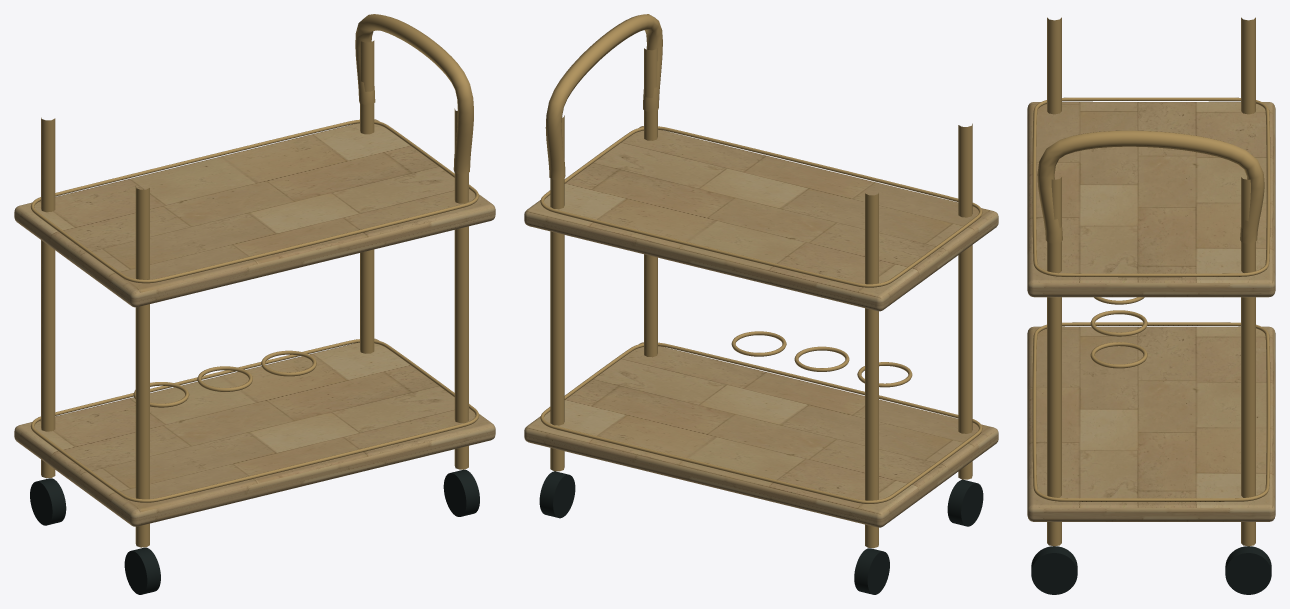
The model's file is luxury-bar-trolley.glb.
3 views of the same model, side by side, from view 1: azimuth 30°, elevation 25°; view 2: azimuth 150°, elevation 25°; view 3: azimuth 270°, elevation 25° (orthographic). The views are drawn at different scales.
Parts seen in each view (by area): view 1: stone_0, bronze_1, dark_5; view 2: stone_0, bronze_1, dark_5; view 3: stone_0, bronze_1, dark_5.
Part boxes in pixels (x1,y1,x2,y2): stone_0: (14, 119, 495, 526); bronze_1: (30, 14, 479, 547); dark_5: (30, 469, 479, 594); stone_0: (524, 126, 998, 527); bronze_1: (540, 14, 982, 548); dark_5: (539, 471, 983, 594); stone_0: (1027, 102, 1275, 521); bronze_1: (1032, 17, 1270, 546); dark_5: (1031, 546, 1271, 594).
Size of the model in its own units: 0.8 by 0.9428 by 0.46.
Materials: 3 (1 with a texture image).
